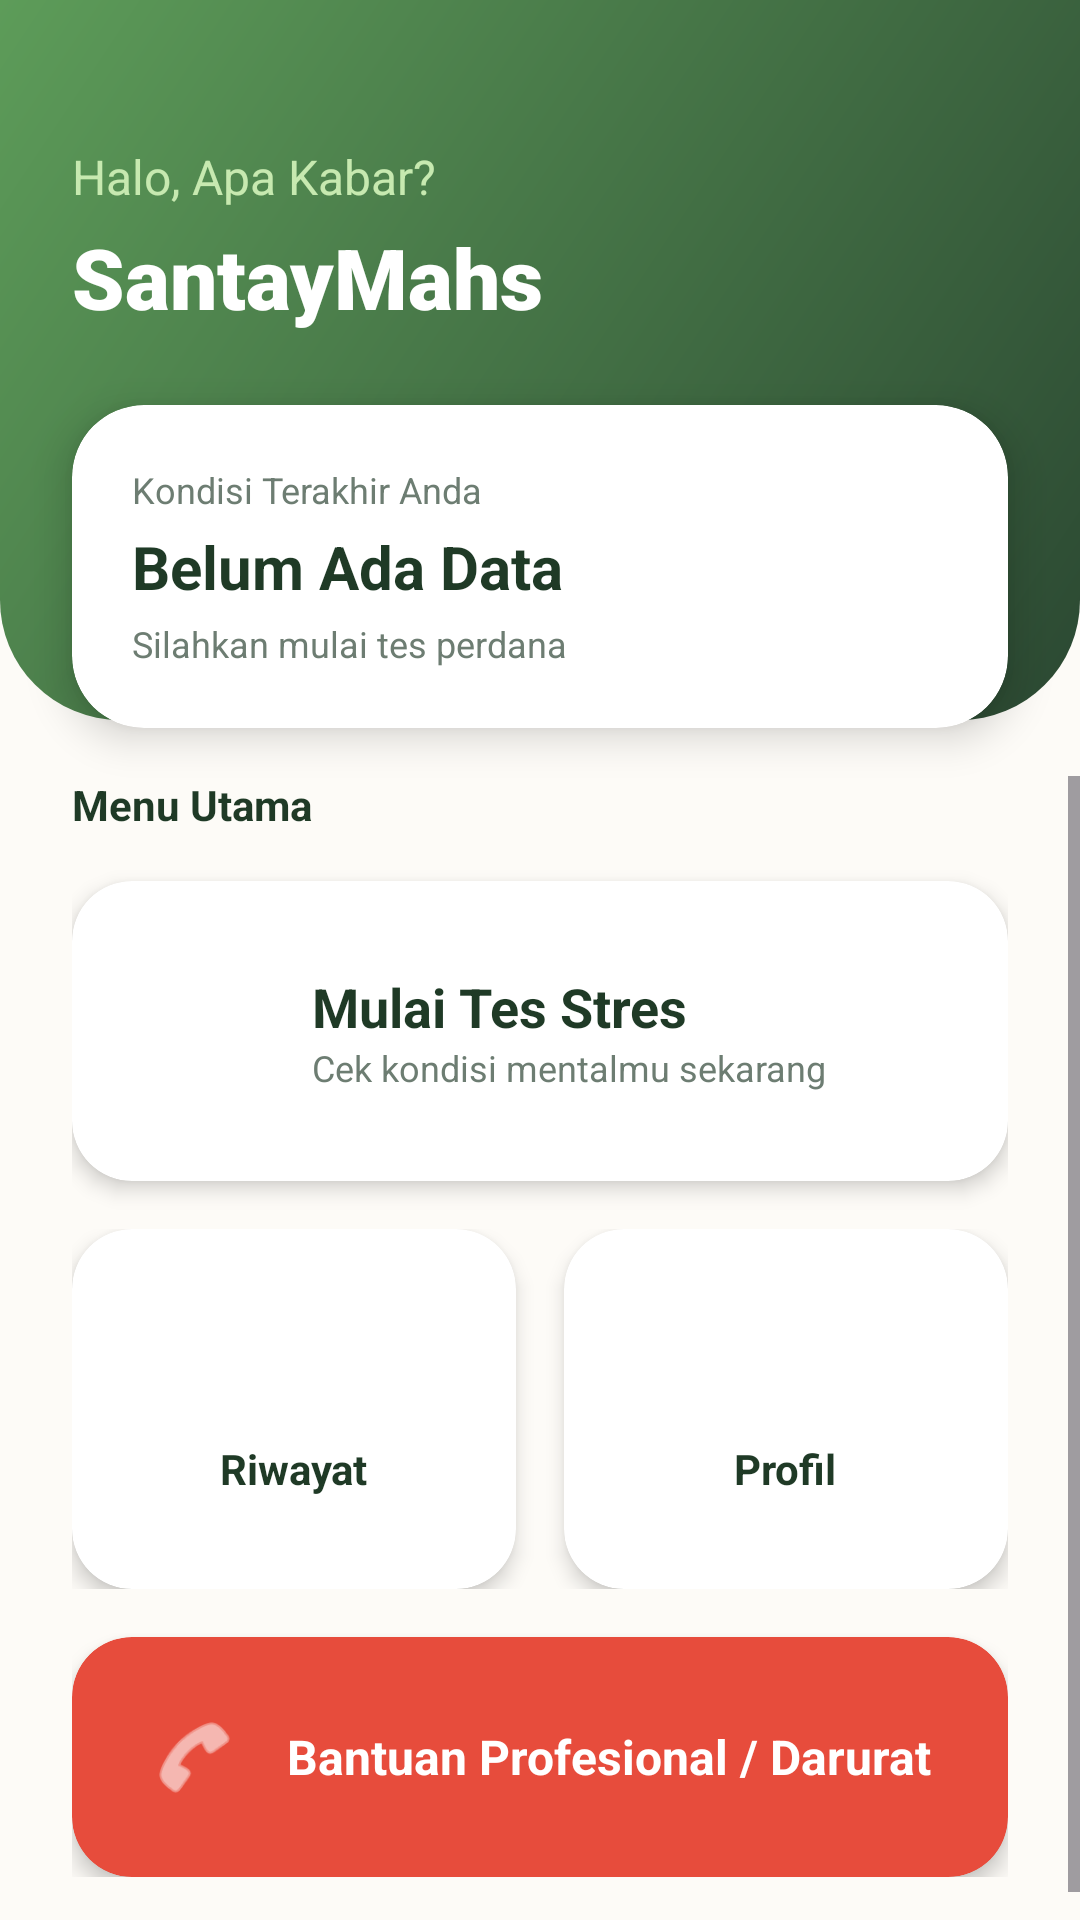

Named icons in this screenshot (1080 × 1920) and their centers, [x,y]:
call: [194,1757]
